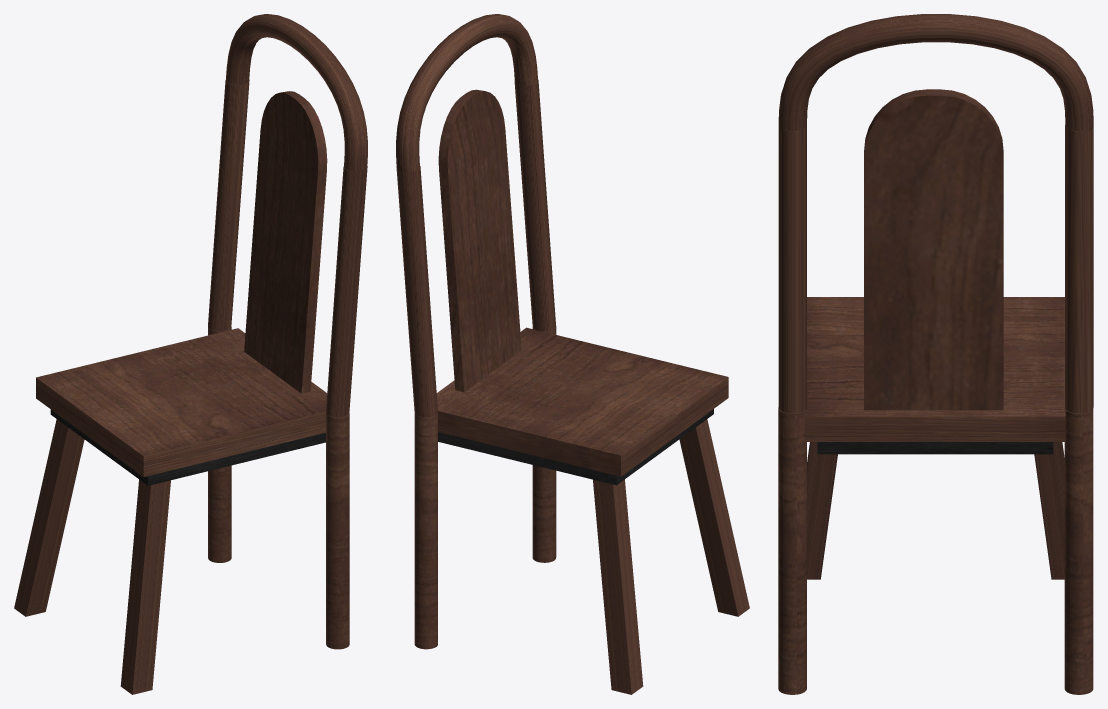
File: silla.obj
3 views of the same model, side by side, from view 1: azimuth 30°, elevation 25°; view 2: azimuth 150°, elevation 25°; view 3: azimuth 270°, elevation 25° (orthographic). The views are drawn at different scales.
Parts seen in each view (by area): view 1: group11_pasted__pDisc1; view 2: group11_pasted__pDisc1; view 3: group11_pasted__pDisc1.
Boxes of the visible parts, <box> form: group11_pasted__pDisc1: <box>14,14,367,694</box>; group11_pasted__pDisc1: <box>396,14,749,694</box>; group11_pasted__pDisc1: <box>778,14,1093,694</box>.
Bounding box in the file's own units: 0.7189 × 1.63 × 0.6785.
2 materials, 2 textured.
